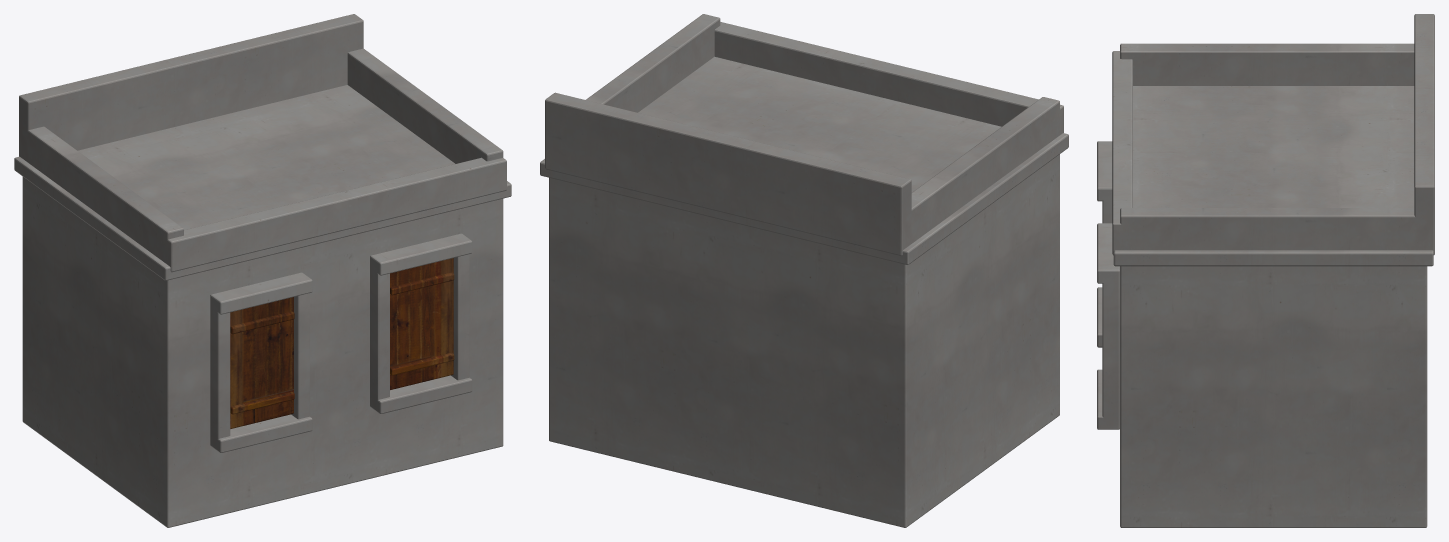
Rendered from spawn-b-upper-room.glb.
3 renders of one model, left to right at view 1: azimuth 30°, elevation 25°; view 2: azimuth 150°, elevation 25°; view 3: azimuth 270°, elevation 25°, orthographic. The views are drawn at different scales.
Parts seen in each view (by area): view 1: Setback room; view 2: Setback room; view 3: Setback room.
Boxes of the visible parts, left/top/right/bottom form: Setback room: left=14, top=14, right=511, bottom=527; Setback room: left=540, top=14, right=1068, bottom=527; Setback room: left=1097, top=14, right=1434, bottom=527.
Bounding box in the file's own units: 3.3 × 2.95 × 2.64.
Materials: 2 (2 with a texture image).
